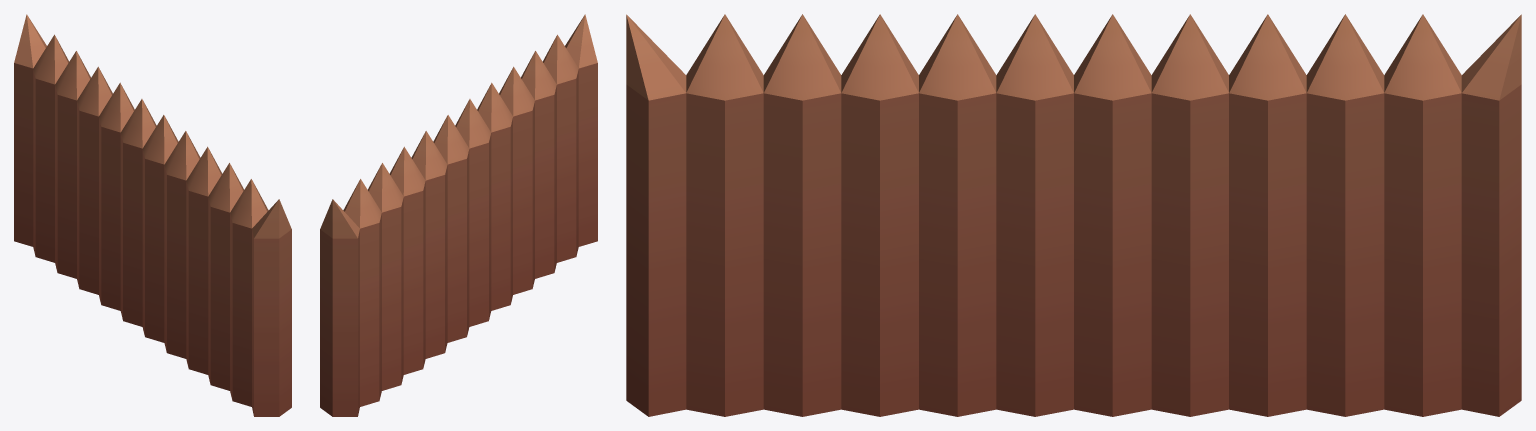
File: kay-cerca-madeira.gltf
The picture shows the model from 3 angles, left to right: view 1: azimuth 30°, elevation 25°; view 2: azimuth 150°, elevation 25°; view 3: azimuth 270°, elevation 25°; orthographic projection. The views are drawn at different scales.
Parts seen in each view (by area): view 1: fence_wood_straight; view 2: fence_wood_straight; view 3: fence_wood_straight.
Part boxes in pixels (<box>): fence_wood_straight: <box>14,14,291,416</box>; fence_wood_straight: <box>320,14,597,416</box>; fence_wood_straight: <box>626,14,1521,416</box>.
Bounding box in the file's own units: 0.4997 × 2.75 × 5.77.
1 material, 1 textured.
